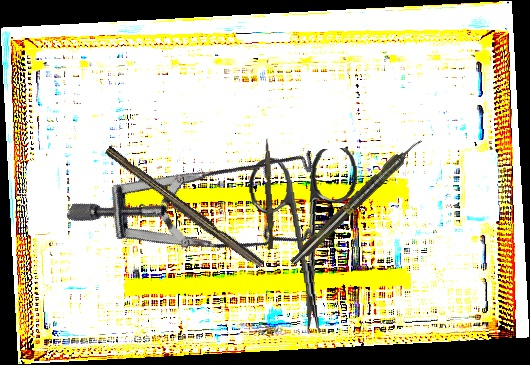Handpiece: (287, 134, 426, 269)
Iris Scissors: (246, 146, 371, 339)
Pusher: (260, 138, 277, 250)
Scalpel Handle: (101, 145, 266, 272)
Speculum: (65, 61, 351, 330)
